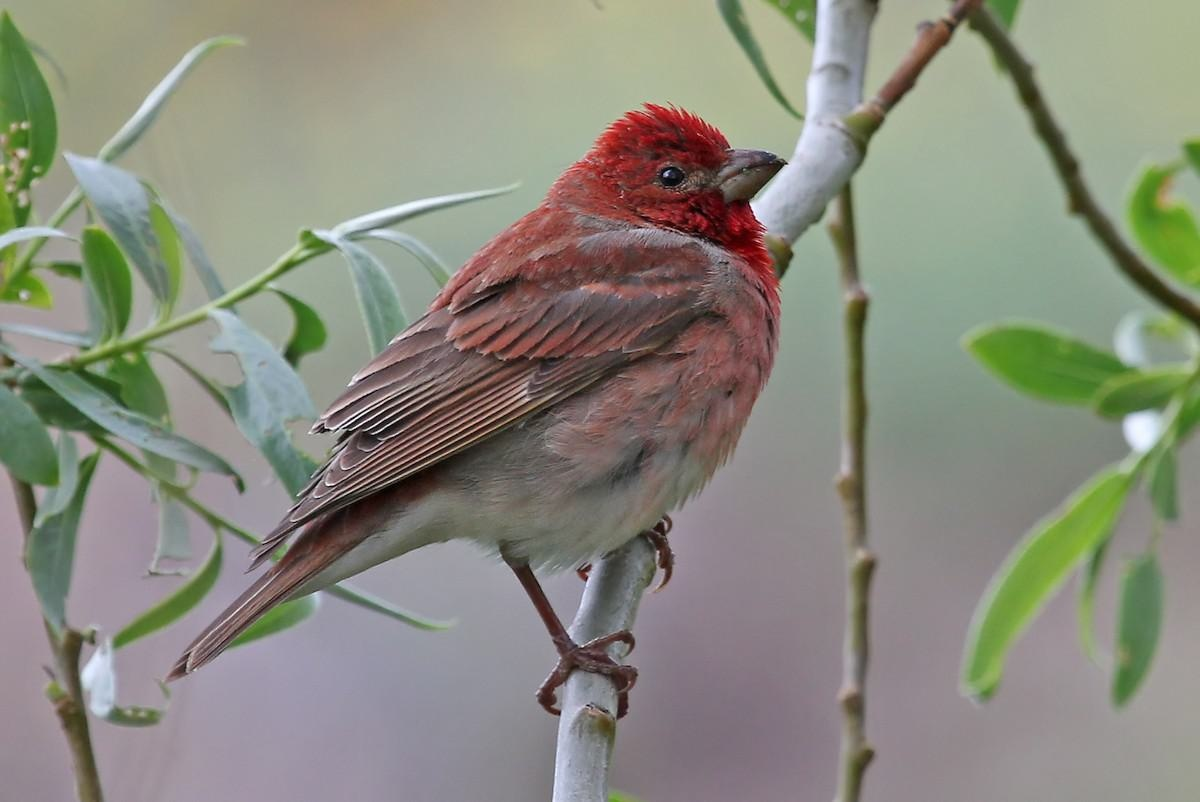rosefinch: (168, 113, 801, 724)
